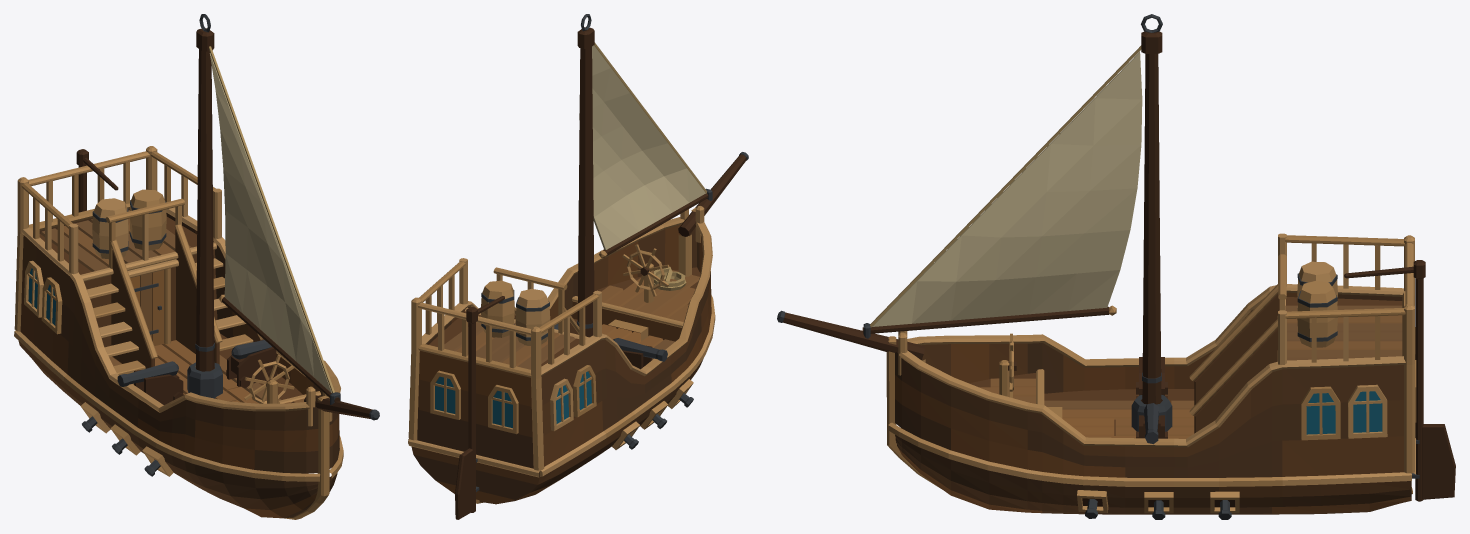
Rendered from pirate-sloop-d8ead0.glb.
3 renders of one model, left to right at view 1: azimuth 30°, elevation 25°; view 2: azimuth 150°, elevation 25°; view 3: azimuth 270°, elevation 25°, orthographic. The views are drawn at different scales.
Parts seen in each view (by area): view 1: hull, boom-sail, mast-spar, barrels, rudder-tiller; view 2: hull, boom-sail, mast-spar, barrels, rudder-tiller; view 3: hull, boom-sail, mast-spar, rudder-tiller, barrels.
Part boxes in pixels (bbox=[...]): hull: bbox=[14, 146, 379, 519]; boom-sail: bbox=[209, 53, 340, 404]; mast-spar: bbox=[195, 14, 334, 393]; barrels: bbox=[92, 189, 166, 259]; rudder-tiller: bbox=[76, 149, 118, 212]; hull: bbox=[408, 152, 748, 504]; boom-sail: bbox=[579, 45, 712, 258]; mast-spar: bbox=[577, 14, 706, 337]; barrels: bbox=[481, 280, 550, 345]; rudder-tiller: bbox=[455, 296, 504, 519]; hull: bbox=[777, 233, 1419, 519]; boom-sail: bbox=[862, 52, 1142, 338]; mast-spar: bbox=[870, 14, 1162, 404]; rudder-tiller: bbox=[1344, 260, 1455, 501]; barrels: bbox=[1297, 261, 1337, 347].
Bounding box in the file's own units: 3.21 × 7.77 × 9.72.
